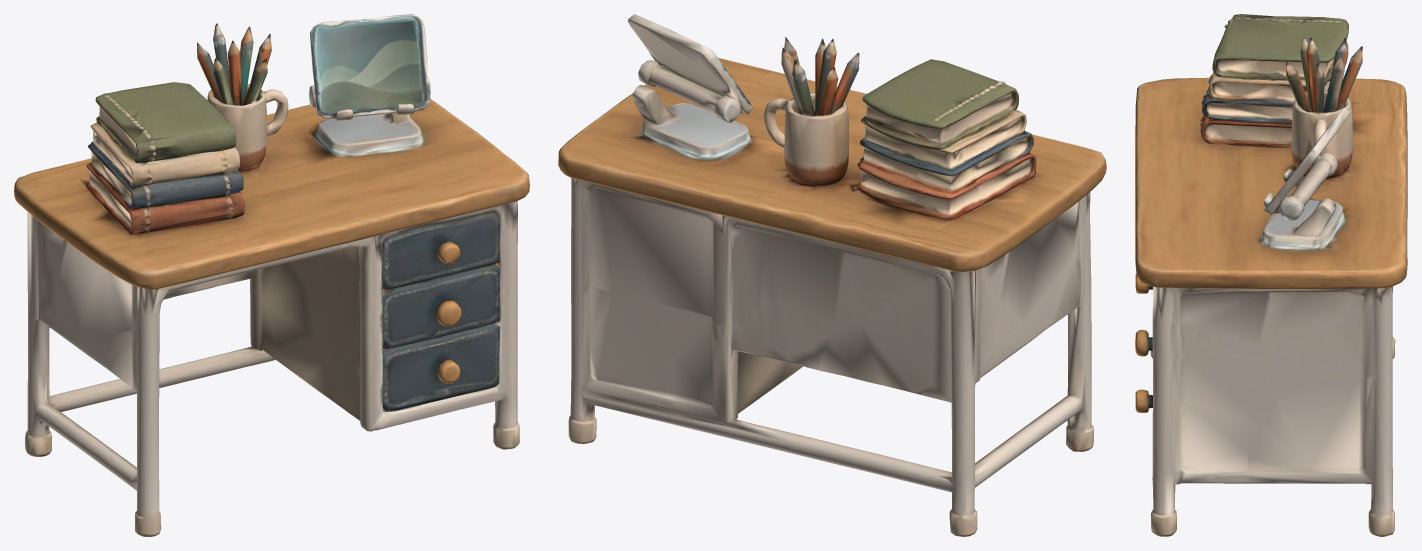
File: teacher-desk.medium.glb
3 views of the same model, side by side, from view 1: azimuth 30°, elevation 25°; view 2: azimuth 150°, elevation 25°; view 3: azimuth 270°, elevation 25° (orthographic). The views are drawn at different scales.
Parts seen in each view (by area): view 1: tripo_node_ec777724-02c2-4702-8629-febdb65ed086; view 2: tripo_node_ec777724-02c2-4702-8629-febdb65ed086; view 3: tripo_node_ec777724-02c2-4702-8629-febdb65ed086.
Boxes of the visible parts, left/top/right/bottom form: tripo_node_ec777724-02c2-4702-8629-febdb65ed086: left=14, top=14, right=529, bottom=536; tripo_node_ec777724-02c2-4702-8629-febdb65ed086: left=558, top=14, right=1106, bottom=536; tripo_node_ec777724-02c2-4702-8629-febdb65ed086: left=1135, top=14, right=1407, bottom=536.
Size of the model in its own units: 0.8075 by 0.76 by 0.4706.
Materials: 1 (1 with a texture image).
